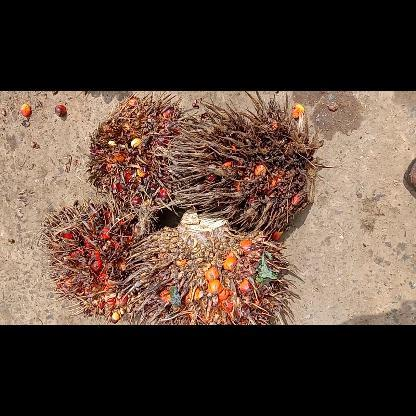Terlalu masak: (156, 90, 326, 246), (122, 206, 306, 324), (30, 194, 162, 324), (84, 91, 206, 215)
